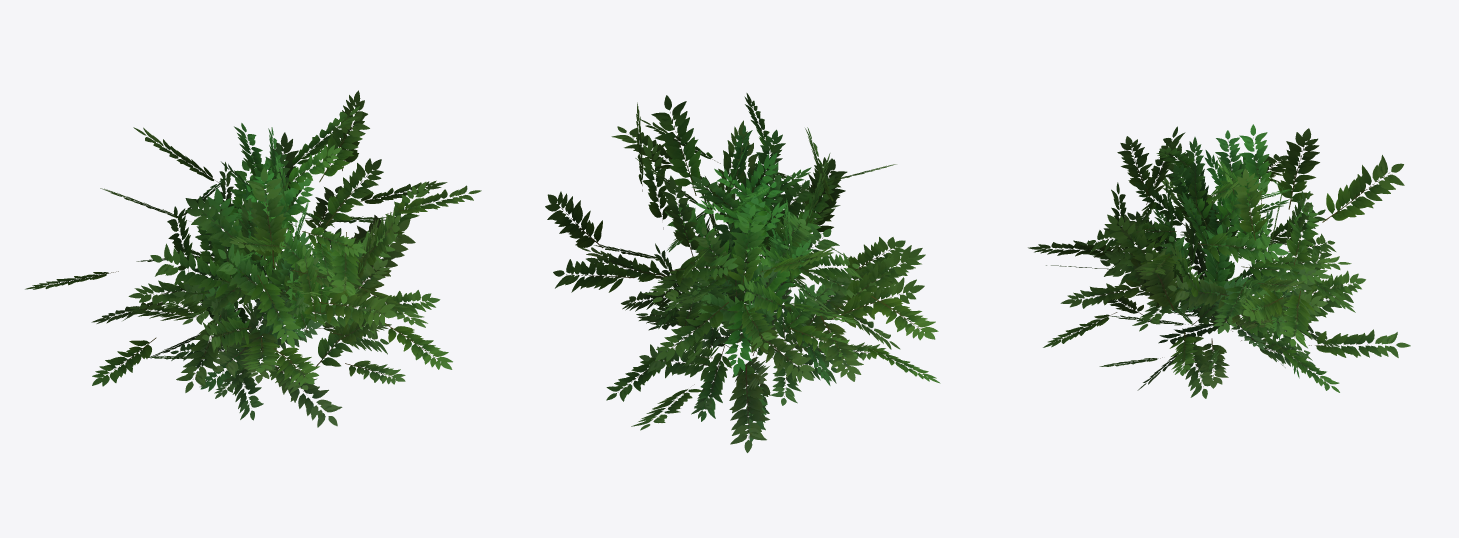
File: yabu.lite.glb
3 renders of one model, left to right at view 1: azimuth 30°, elevation 25°; view 2: azimuth 150°, elevation 25°; view 3: azimuth 270°, elevation 25°, orthographic. The views are drawn at different scales.
Visible parts, largest first — view 1: v2_lod1, v1_lod1, v0_lod1; view 2: v2_lod1, v1_lod1, v0_lod1; view 3: v2_lod1, v1_lod1, v0_lod1.
Boxes of the visible parts, x1=… form: v2_lod1: x1=126, y1=90, x2=481, y2=398; v1_lod1: x1=92, y1=110, x2=430, y2=420; v0_lod1: x1=25, y1=132, x2=452, y2=427; v2_lod1: x1=545, y1=95, x2=924, y2=441; v1_lod1: x1=586, y1=93, x2=940, y2=452; v0_lod1: x1=651, y1=127, x2=938, y2=421; v2_lod1: x1=1028, y1=136, x2=1410, y2=388; v1_lod1: x1=1060, y1=124, x2=1356, y2=398; v0_lod1: x1=1043, y1=126, x2=1331, y2=390.
Bounding box in the file's own units: 3.59 × 2.85 × 3.3.
1 material, 1 textured.
